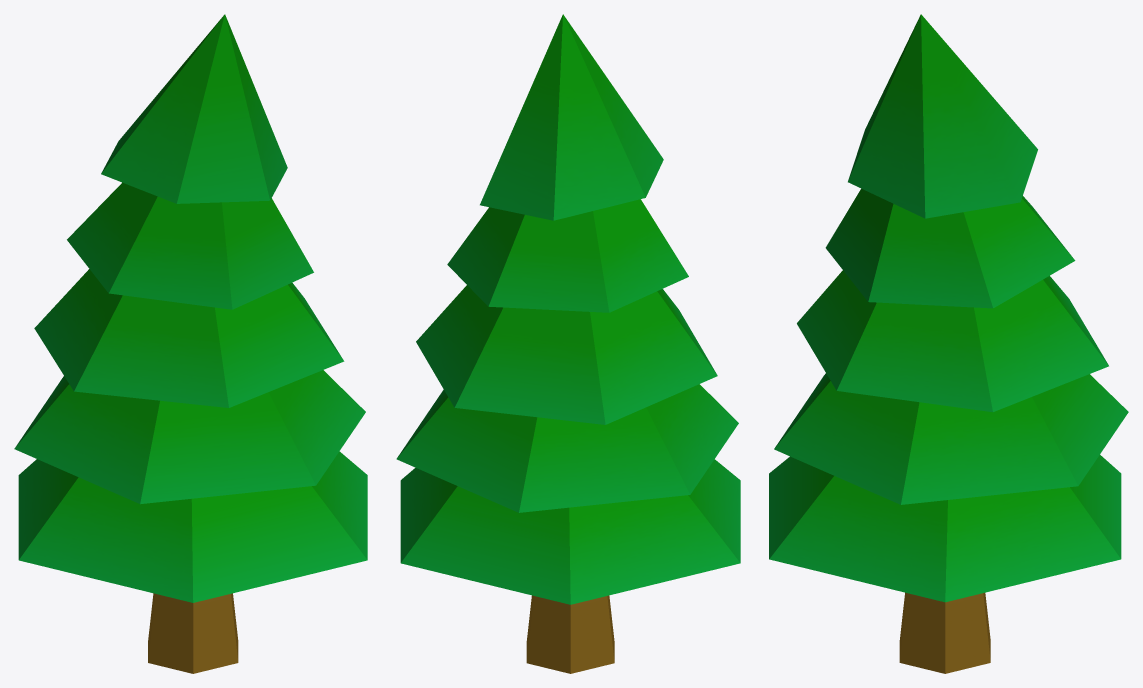
The model's file is Tree_01__23_.fbx.
The picture shows the model from 3 angles, left to right: view 1: azimuth 30°, elevation 25°; view 2: azimuth 150°, elevation 25°; view 3: azimuth 270°, elevation 25°; orthographic projection. The views are drawn at different scales.
Visible parts, largest first — view 1: Tree_01__23_; view 2: Tree_01__23_; view 3: Tree_01__23_.
Part boxes in pixels (x1=…): Tree_01__23_: x1=14, y1=14, x2=367, y2=673; Tree_01__23_: x1=396, y1=14, x2=740, y2=673; Tree_01__23_: x1=769, y1=14, x2=1128, y2=673.
Bounding box in the file's own units: 6670 × 11718 × 5899.
